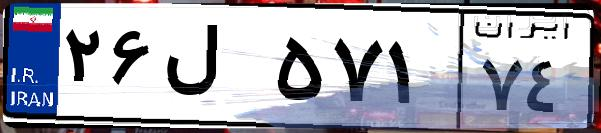1: (385, 28, 445, 110)
2: (57, 26, 110, 100)
4: (525, 38, 570, 115)
5: (270, 28, 330, 110)
6: (110, 28, 158, 98)
7: (330, 28, 385, 110), (475, 38, 525, 113)
ل: (158, 20, 270, 120)
